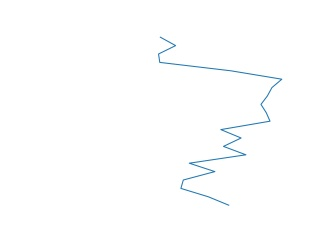floodPlain: (156, 36, 284, 209)
